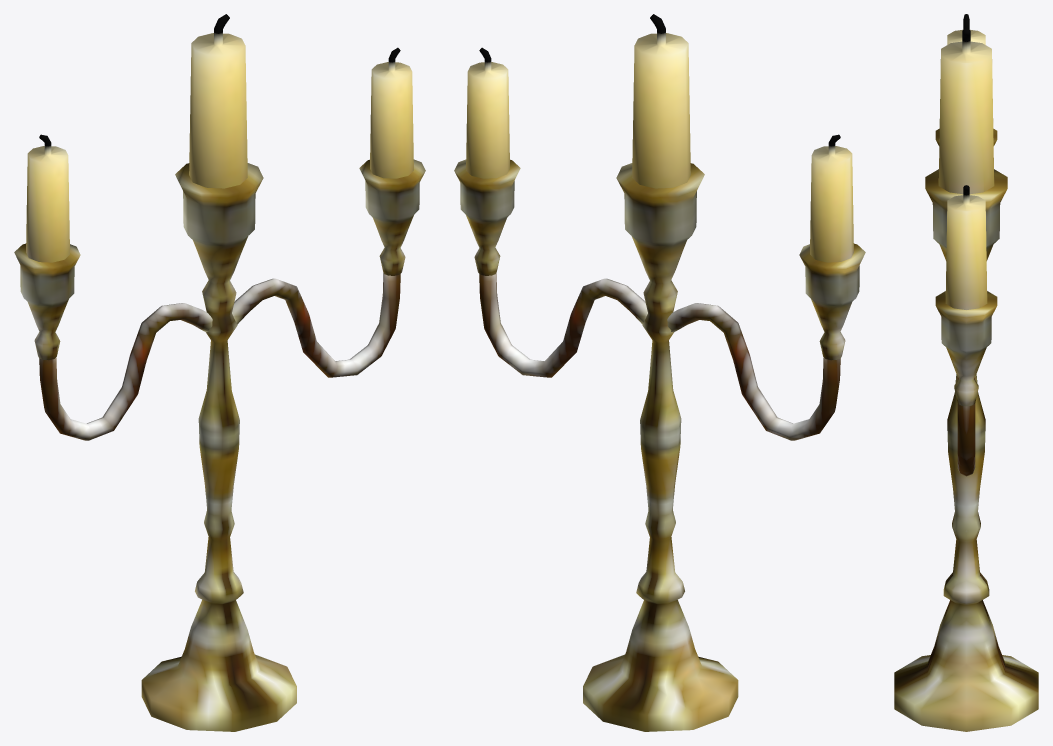
Rendered from candlestick2.obj.
The picture shows the model from 3 angles, left to right: view 1: azimuth 30°, elevation 25°; view 2: azimuth 150°, elevation 25°; view 3: azimuth 270°, elevation 25°; orthographic projection.
Parts seen in each view (by area): view 1: candlestick2; view 2: candlestick2; view 3: candlestick2.
Part boxes in pixels (x1,y1,x2,y2): candlestick2: (14,14,425,731); candlestick2: (454,14,865,731); candlestick2: (894,14,1038,731).
Bounding box in the file's own units: 0.2845 × 0.4609 × 0.0894.
Materials: 1 (1 with a texture image).
